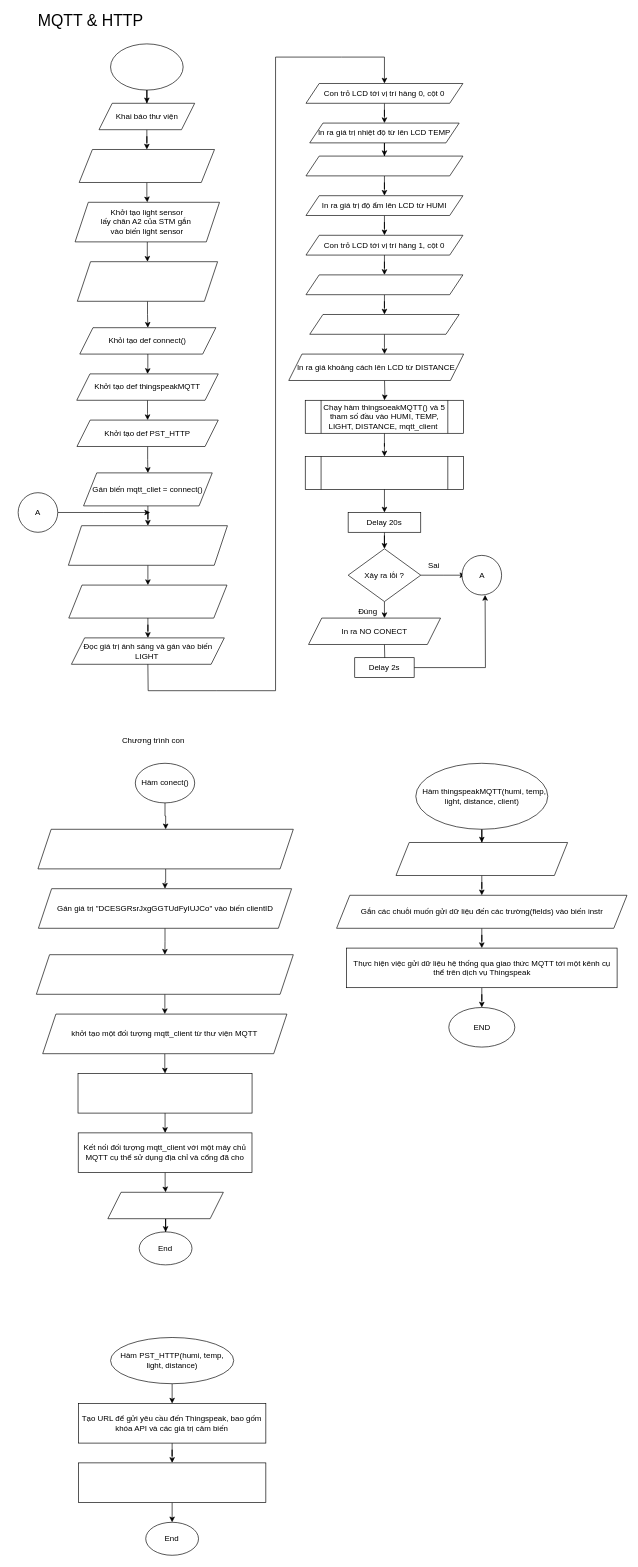
This 638x1567 diagram has some shape labels left out. Each missing label, with the centre of its shape:
Bắt đầu: the point at 146,66
Chạy hàm thingsoeakMQTT() và 4 tham số đầu vào HUMI, TEMP, LIGHT, DISTANCE: the point at 384,472
Con trỏ LCD tới vị trí hàng 0, cột 6: the point at 384,165
Con trỏ LCD tới vị trí hàng 1, cột 6: the point at 384,324
Gán giá trị "DCESGRsrJxgGGTUdFyIUJCo" vào biến username: the point at 165,849
Gán giá trị "GaLVhPqBCEv6zDwV1KxhApn8" vào biến password: the point at 164,974
Gắn giá trị "2633783" vào biến channel_ID: the point at 481,858
In ra giá trị ánh sáng lên LCD từ LIGHT: the point at 384,284
Khỏi tạo Ultrasonic sensor lấy chân GPIO 12 gắn vào biến Ultrasonic: the point at 147,281
Khởi tạo LCD 16x2 VÀ gán vào biến LCD: the point at 146,165
Sử dụng request để gửi yêu cầu dến URL đã tạo: the point at 172,1482
thông tin đăng nhập(username và password) cho đối tượng mqtt_client: the point at 164,1093
Trả về giá trị biến client: the point at 165,1205
Đọc dữ liễu nhiệt độ, độ ẩm và gán lần lượt vào biến HUMI,TEMP: the point at 147,545
Đọc giá trị khoảng cách và gán vào biến DISTANCE: the point at 147,601
